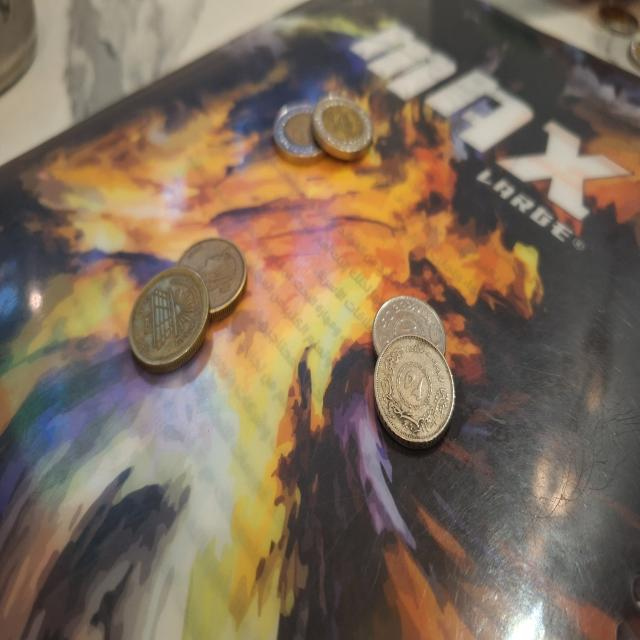Half Pound: (126, 263, 208, 376), (175, 234, 249, 324)
One Pound: (271, 85, 329, 169), (311, 93, 374, 163)
quarter pound: (370, 330, 462, 449), (370, 291, 450, 373)
